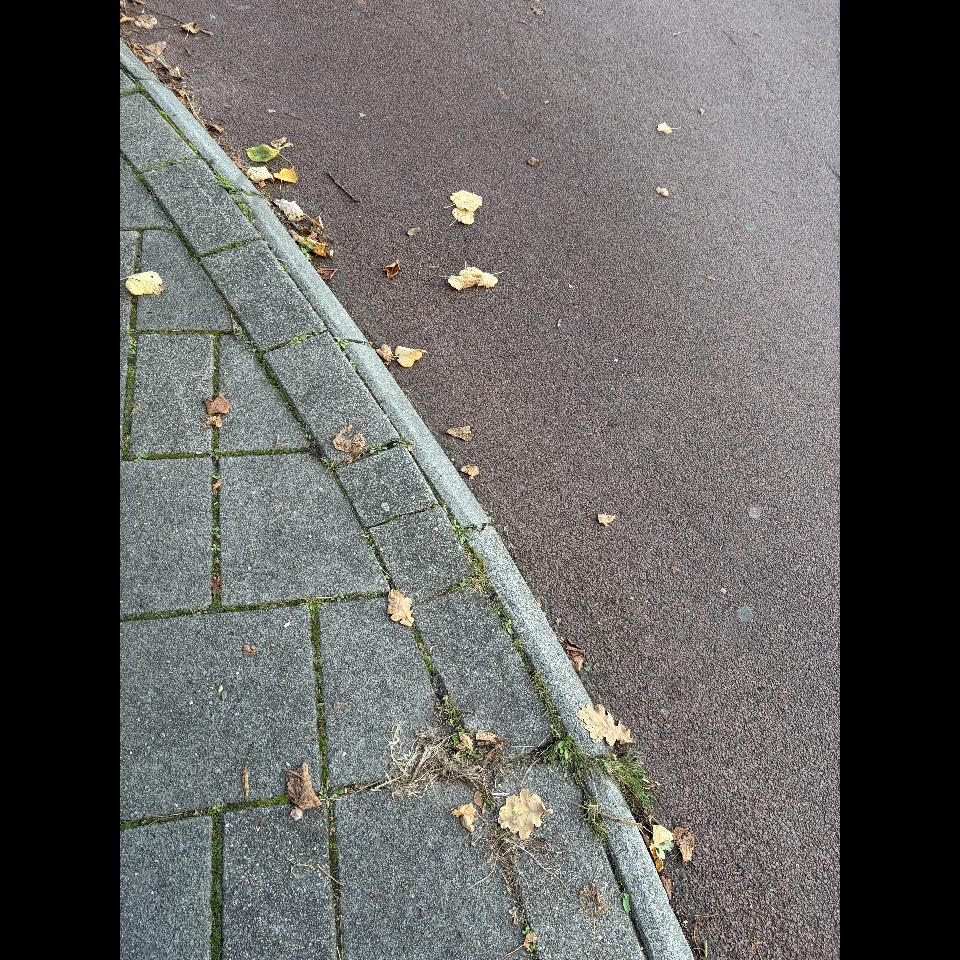weed: (542, 735, 652, 814), (513, 638, 567, 739), (544, 735, 575, 776), (442, 695, 463, 728), (560, 737, 575, 774), (449, 517, 468, 544), (590, 813, 606, 841), (321, 458, 342, 476), (392, 433, 415, 446), (189, 606, 208, 617), (369, 443, 387, 454), (419, 642, 430, 660), (334, 336, 349, 349), (244, 340, 258, 353), (132, 453, 149, 463), (208, 804, 221, 816), (289, 335, 306, 344), (504, 619, 513, 634), (330, 593, 346, 601), (121, 436, 132, 447), (209, 449, 220, 459), (304, 427, 312, 440), (211, 527, 220, 538), (236, 327, 245, 338), (327, 781, 333, 797), (522, 925, 532, 934), (128, 339, 137, 349), (211, 544, 221, 551), (460, 579, 470, 586), (530, 942, 537, 952), (121, 330, 132, 335), (313, 330, 323, 335), (350, 360, 357, 367), (162, 226, 172, 230), (372, 544, 375, 552), (386, 574, 390, 579)
